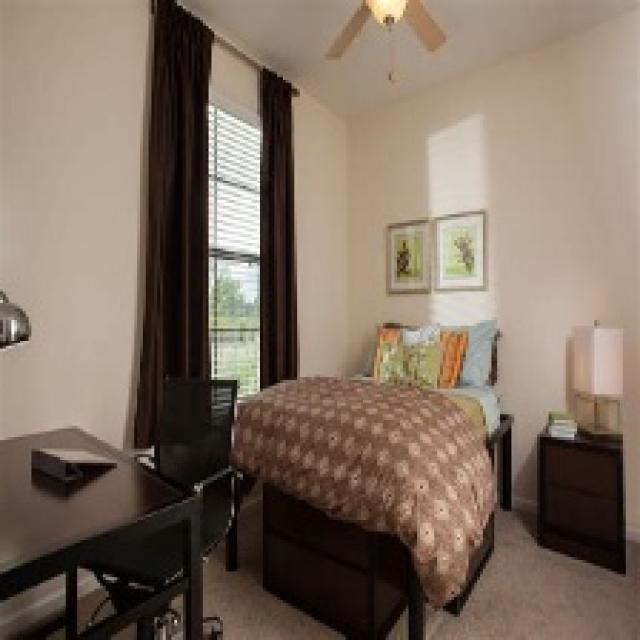Bed: (223, 326, 511, 637)
